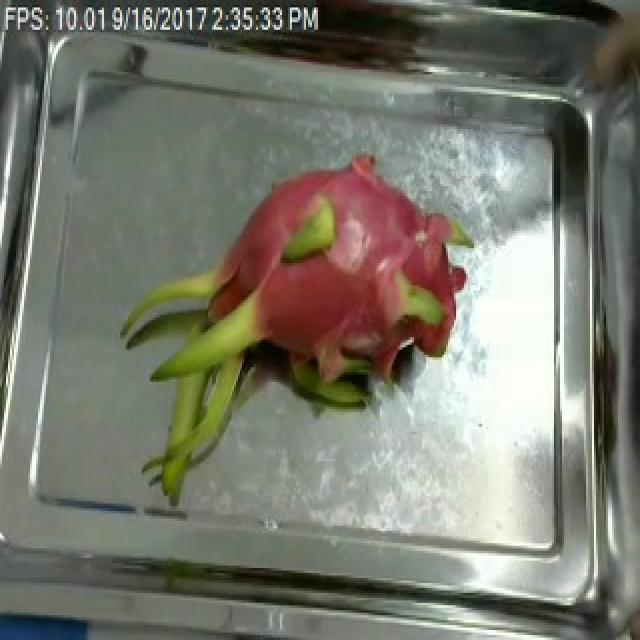fruit: (106, 121, 462, 514)
